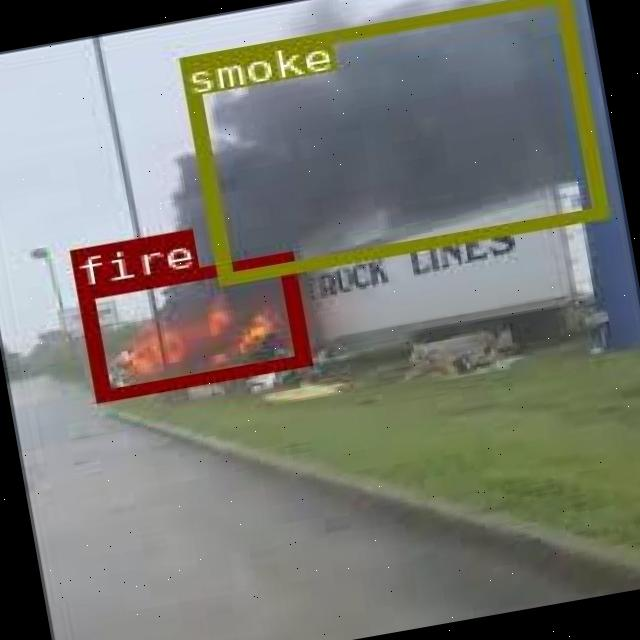fire: (75, 250, 308, 400)
smoke: (178, 0, 606, 283)
